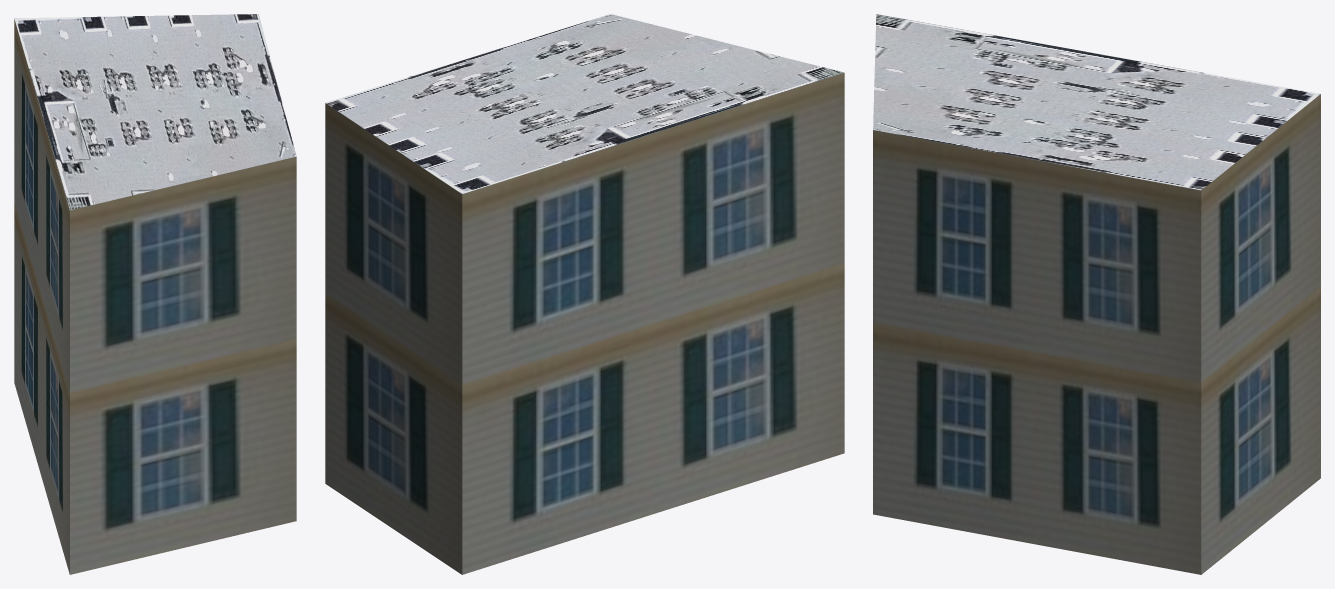
File: ResTex__4572.fbx
The picture shows the model from 3 angles, left to right: view 1: azimuth 30°, elevation 25°; view 2: azimuth 150°, elevation 25°; view 3: azimuth 270°, elevation 25°; orthographic projection. The views are drawn at different scales.
Parts seen in each view (by area): view 1: CityEngineMaterial_7_m, CityEngineMaterial_15_m; view 2: CityEngineMaterial_7_m, CityEngineMaterial_15_m; view 3: CityEngineMaterial_7_m, CityEngineMaterial_15_m.
Boxes of the visible parts, bbox=[...] form: CityEngineMaterial_7_m: bbox=[14, 19, 296, 574]; CityEngineMaterial_15_m: bbox=[14, 14, 296, 210]; CityEngineMaterial_7_m: bbox=[325, 72, 844, 574]; CityEngineMaterial_15_m: bbox=[326, 14, 843, 193]; CityEngineMaterial_7_m: bbox=[873, 94, 1320, 574]; CityEngineMaterial_15_m: bbox=[873, 14, 1320, 190].
Bounding box in the file's own units: 5.91 × 6 × 6.33.
Materials: 2 (2 with a texture image).
